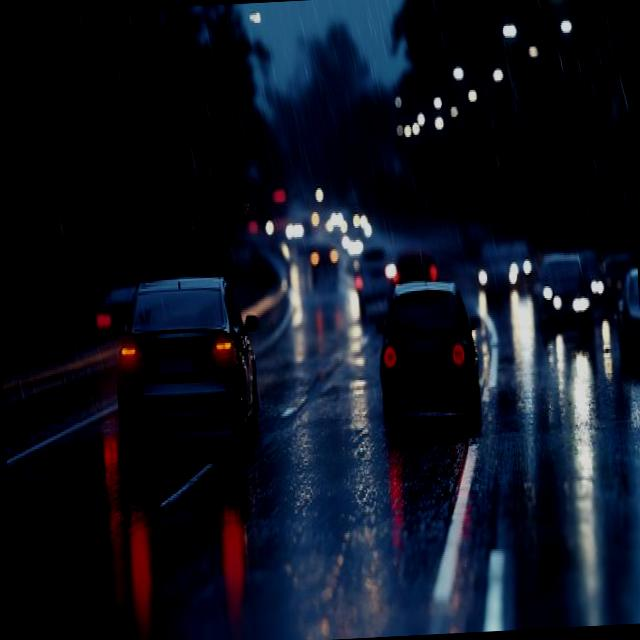Vehicle: (107, 260, 276, 460), (373, 268, 488, 452), (530, 244, 596, 350), (303, 228, 346, 301), (349, 238, 374, 318)
